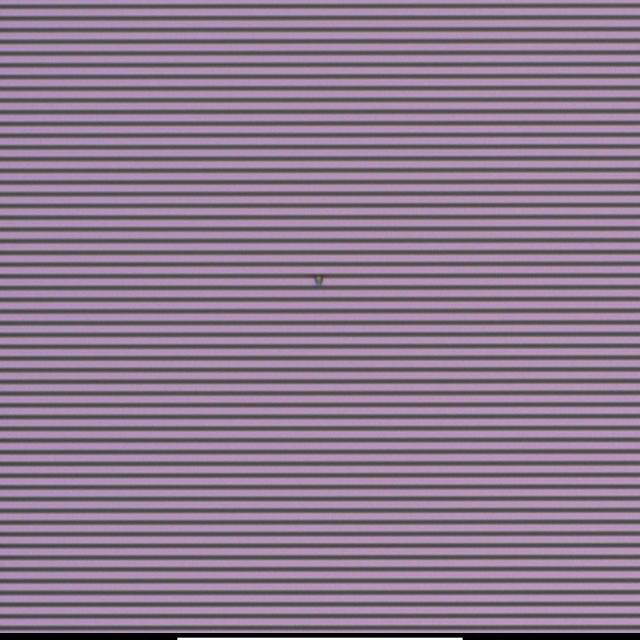03_intrusion: (312, 272, 324, 286)
